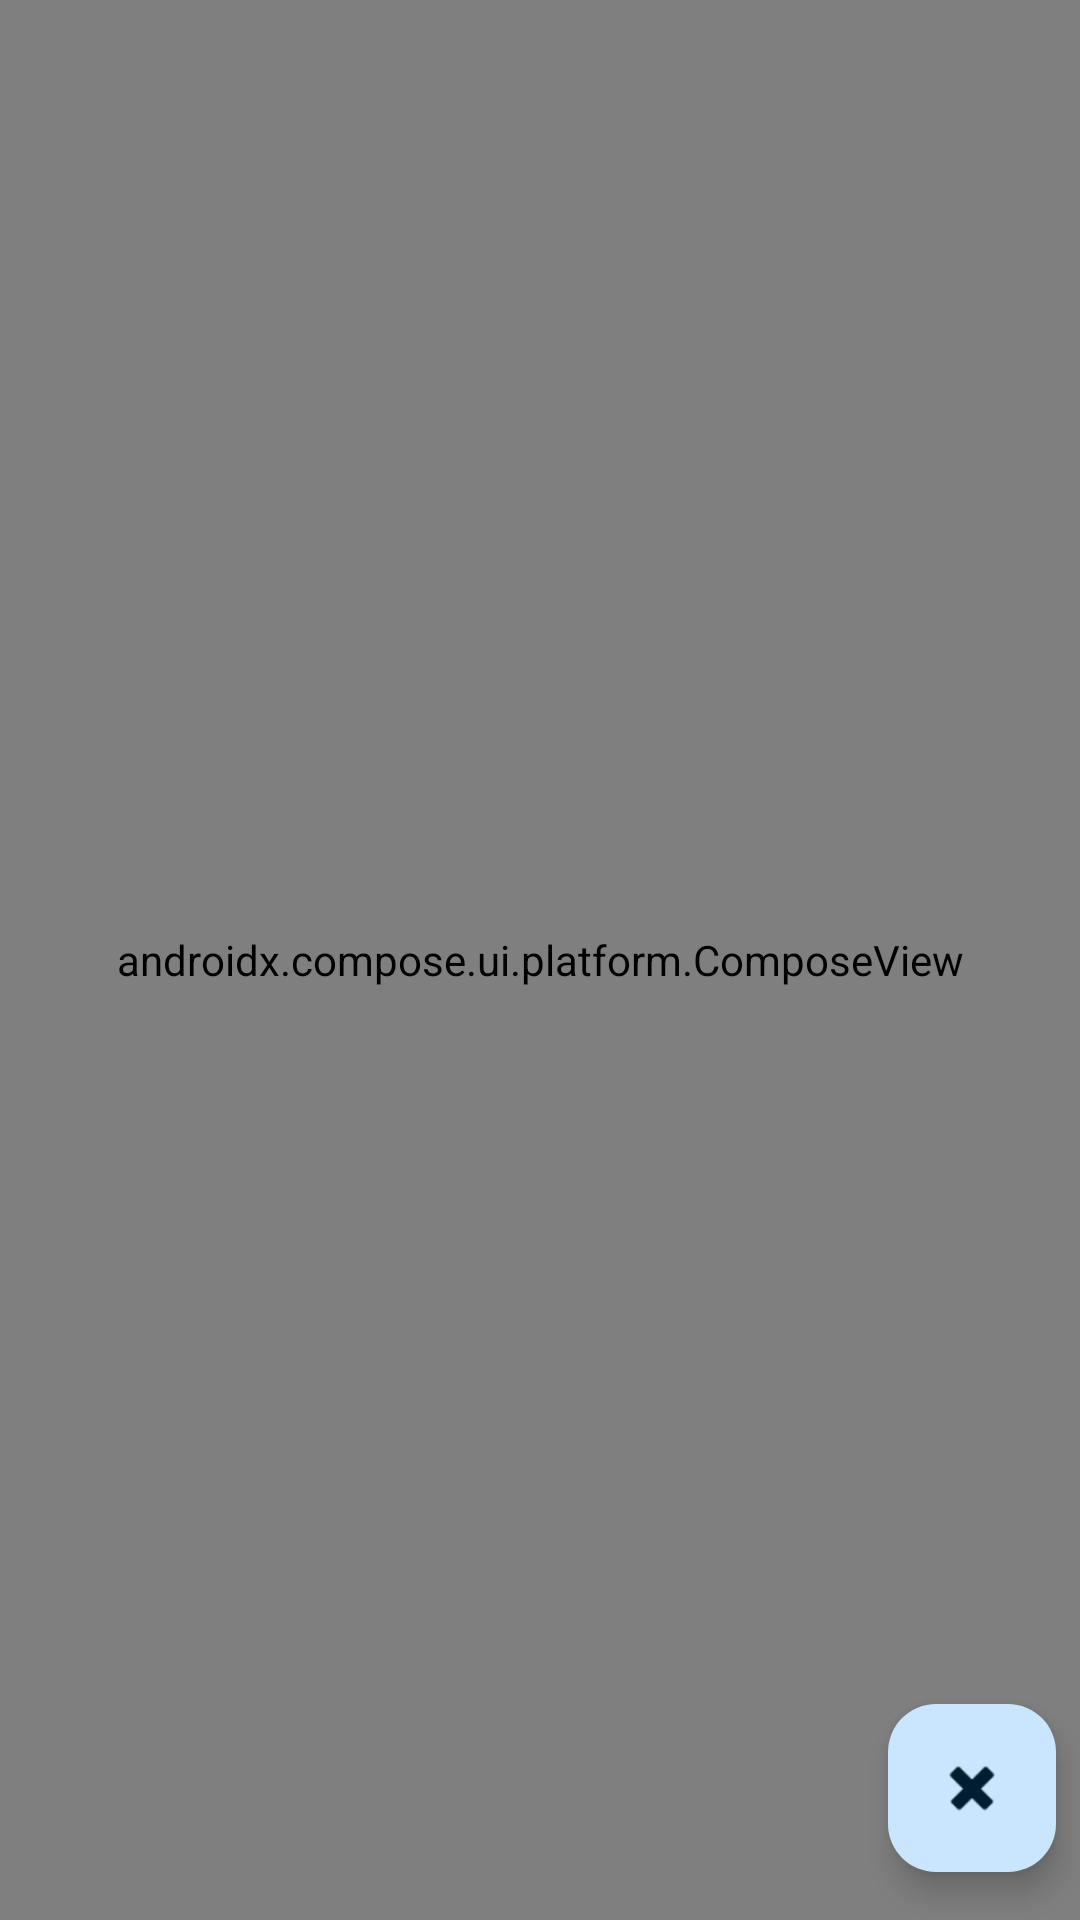

Named icons in this screenshot (1080x1920) and their bounding boxes, (x1, y1, x2, y2):
Cancella selezionati: (888, 1704, 1056, 1872)
